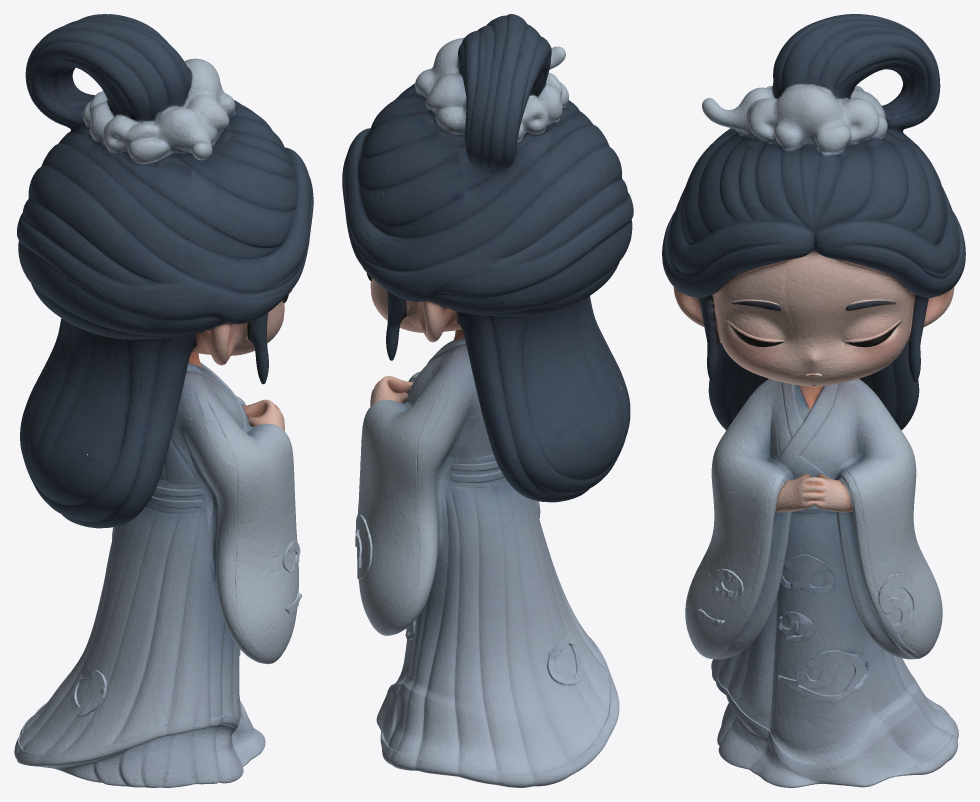
3 views of the same model, side by side, from view 1: azimuth 30°, elevation 25°; view 2: azimuth 150°, elevation 25°; view 3: azimuth 270°, elevation 25° (orthographic). The views are drawn at different scales.
Parts seen in each view (by area): view 1: tripo_node_f2842e03-c1db-4c5d-879d-8a0f76503537; view 2: tripo_node_f2842e03-c1db-4c5d-879d-8a0f76503537; view 3: tripo_node_f2842e03-c1db-4c5d-879d-8a0f76503537.
Boxes of the visible parts, <box> form: tripo_node_f2842e03-c1db-4c5d-879d-8a0f76503537: <box>14,14,313,787</box>; tripo_node_f2842e03-c1db-4c5d-879d-8a0f76503537: <box>342,14,633,787</box>; tripo_node_f2842e03-c1db-4c5d-879d-8a0f76503537: <box>662,14,965,787</box>.
Size of the model in its own units: 0.3489 by 1 by 0.3776.
1 material, 1 textured.
